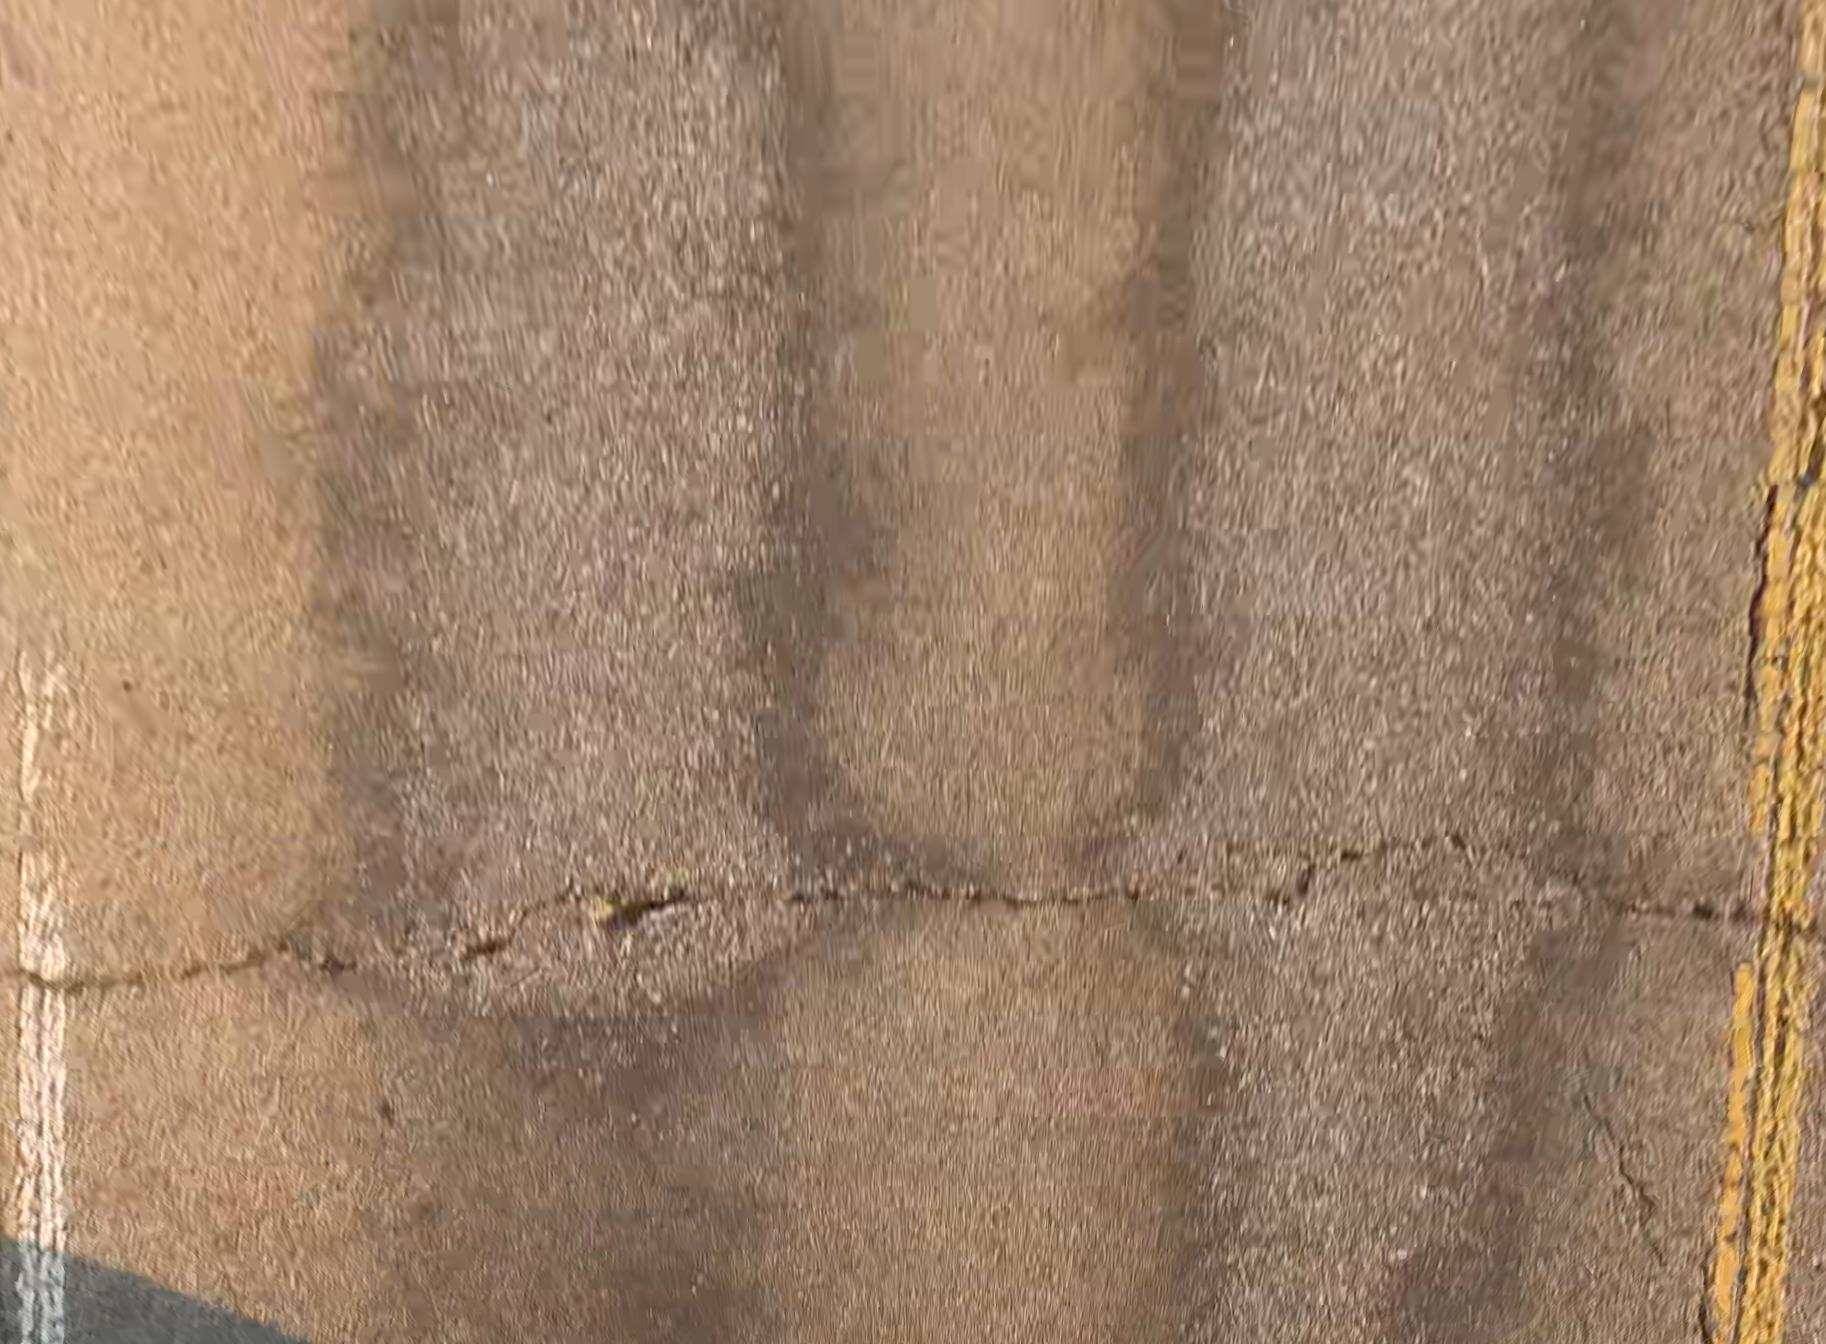pothole: (587, 883, 688, 936), (451, 930, 516, 963)
pothole_patch_poor: (1146, 3, 1646, 1340), (337, 1, 791, 1015)
